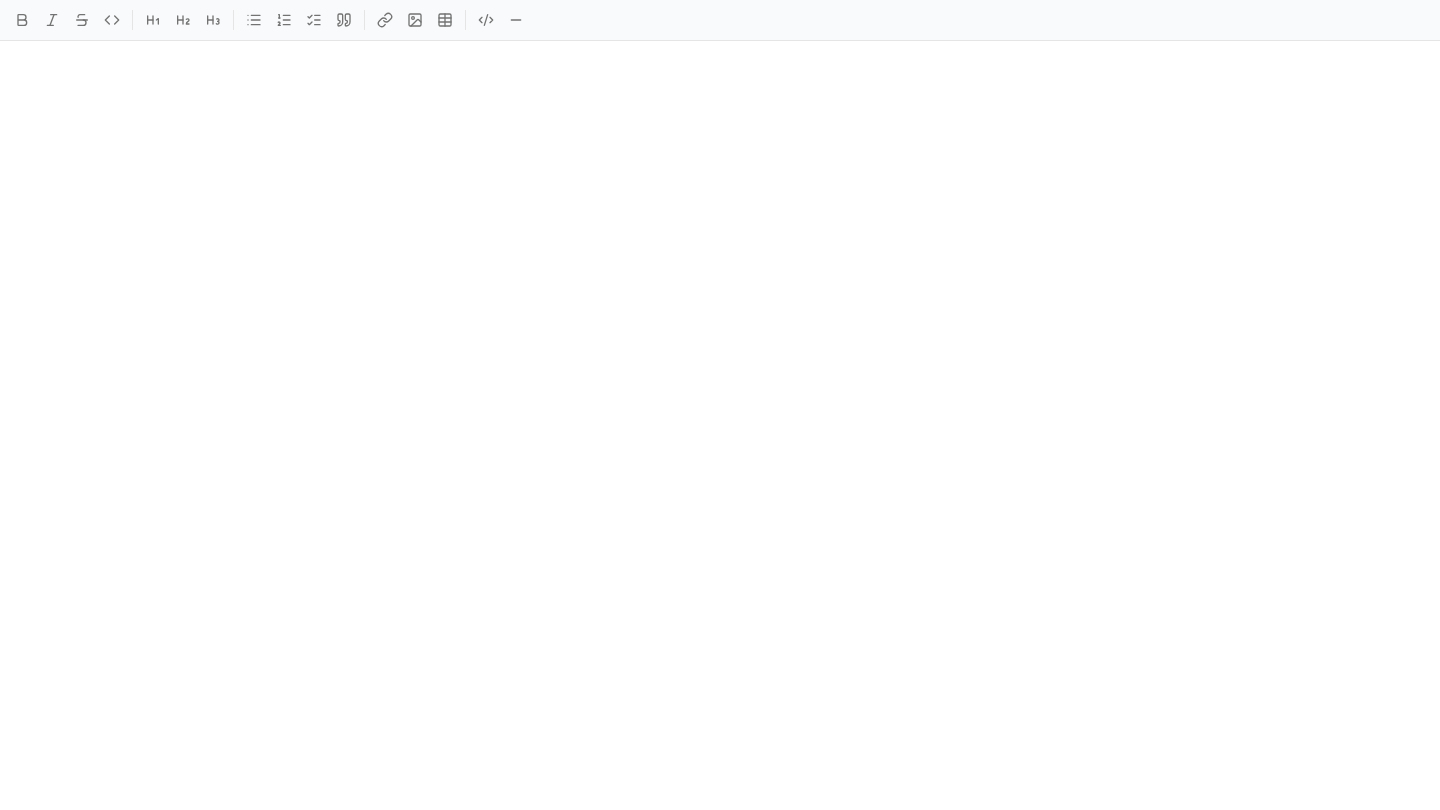
Scenario: EditorToolbar › 点击删除线 → 选区被 ~~ 包围
The width and height of the screenshot is (1440, 810).
Click the button named "删除线" at (82,20), box [68, 6, 96, 34]
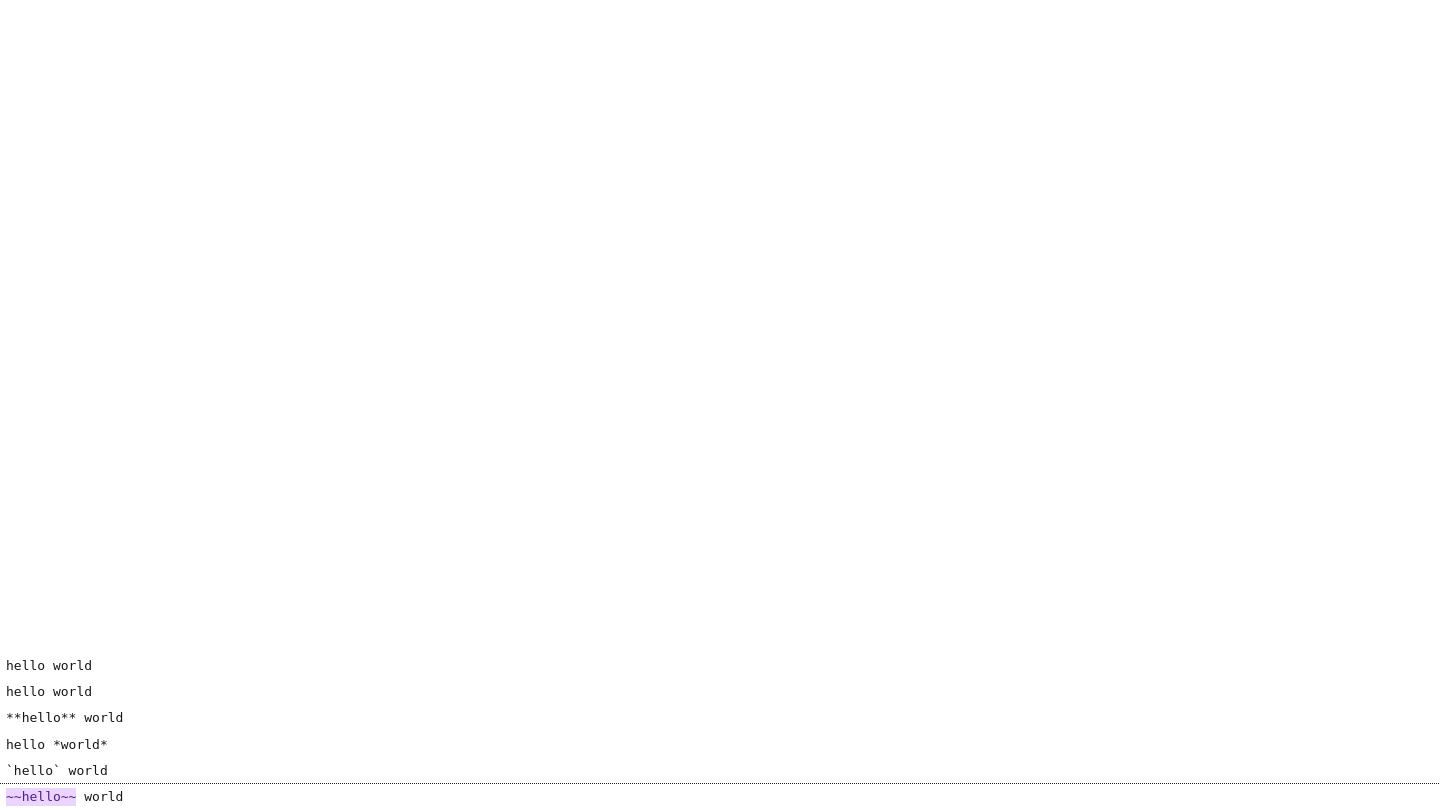
Check: the text box labelled "~~hello~~ world" is shown, box [6, 789, 123, 804]
